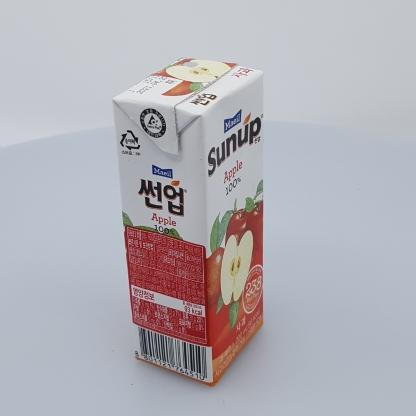-----------200ML: (112, 57, 264, 387)
